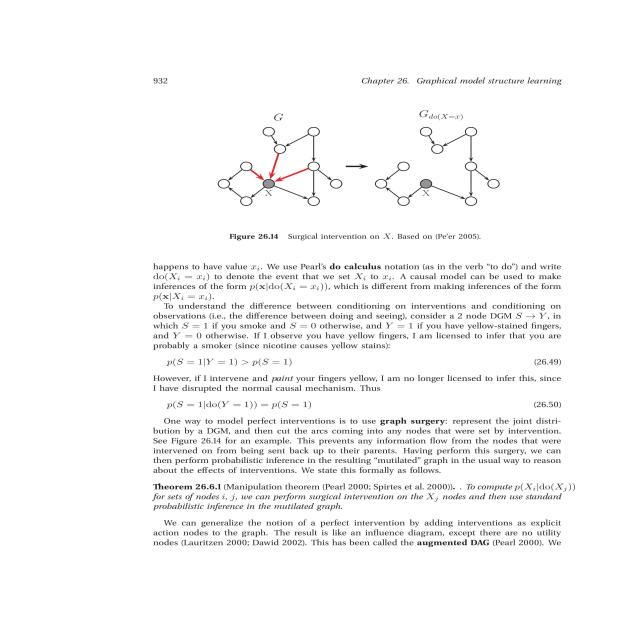diagram: (134, 95, 581, 249)
